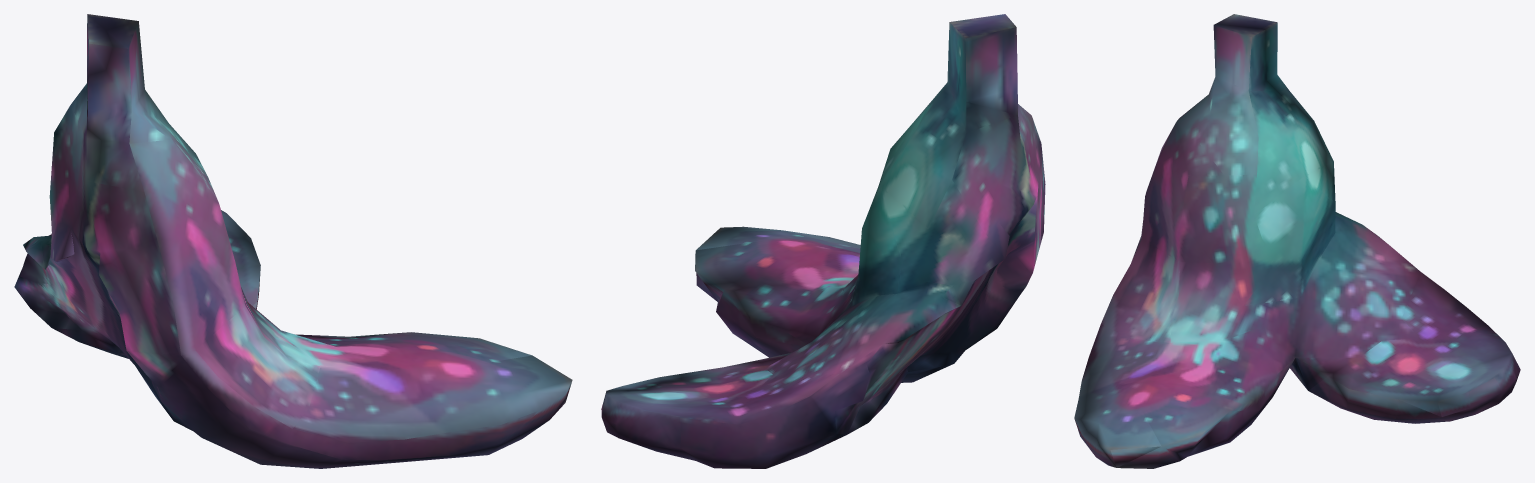
Rendered from trash_peel.fbx.
The picture shows the model from 3 angles, left to right: view 1: azimuth 30°, elevation 25°; view 2: azimuth 150°, elevation 25°; view 3: azimuth 270°, elevation 25°; orthographic projection. The views are drawn at different scales.
Parts seen in each view (by area): view 1: trash_peel; view 2: trash_peel; view 3: trash_peel.
Boxes of the visible parts, x1=… form: trash_peel: x1=14, y1=14, x2=572, y2=468; trash_peel: x1=601, y1=14, x2=1045, y2=468; trash_peel: x1=1074, y1=14, x2=1520, y2=468.
Size of the model in its own units: 0.1223 by 0.1245 by 0.15.
